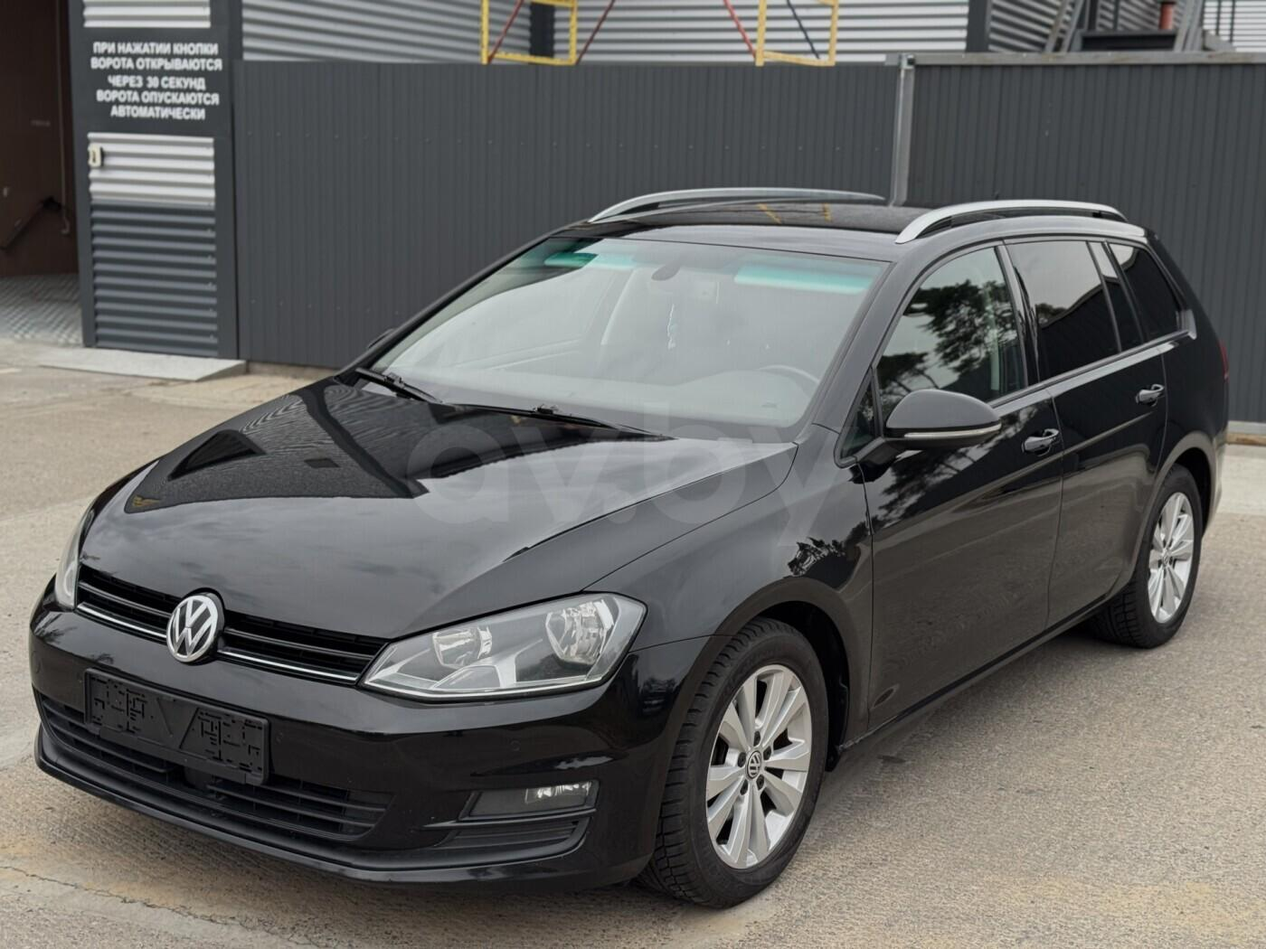Golf_2012-2017: (25, 197, 1246, 908)
